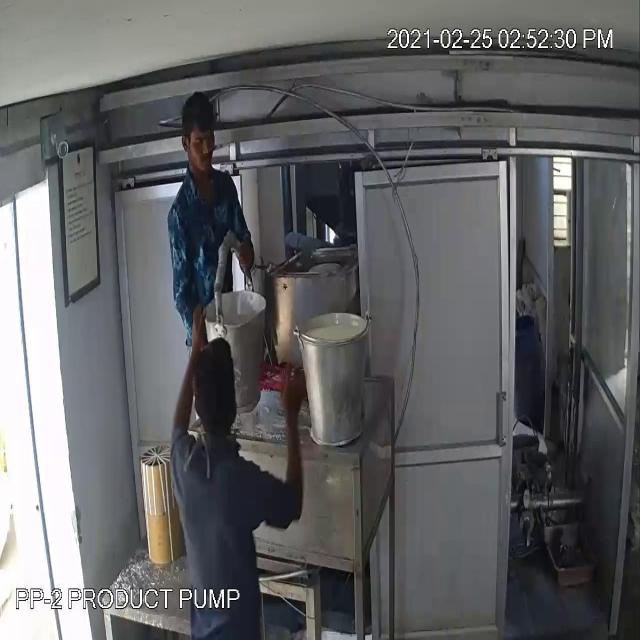no-helmet: (190, 329, 236, 404), (177, 90, 223, 154)
